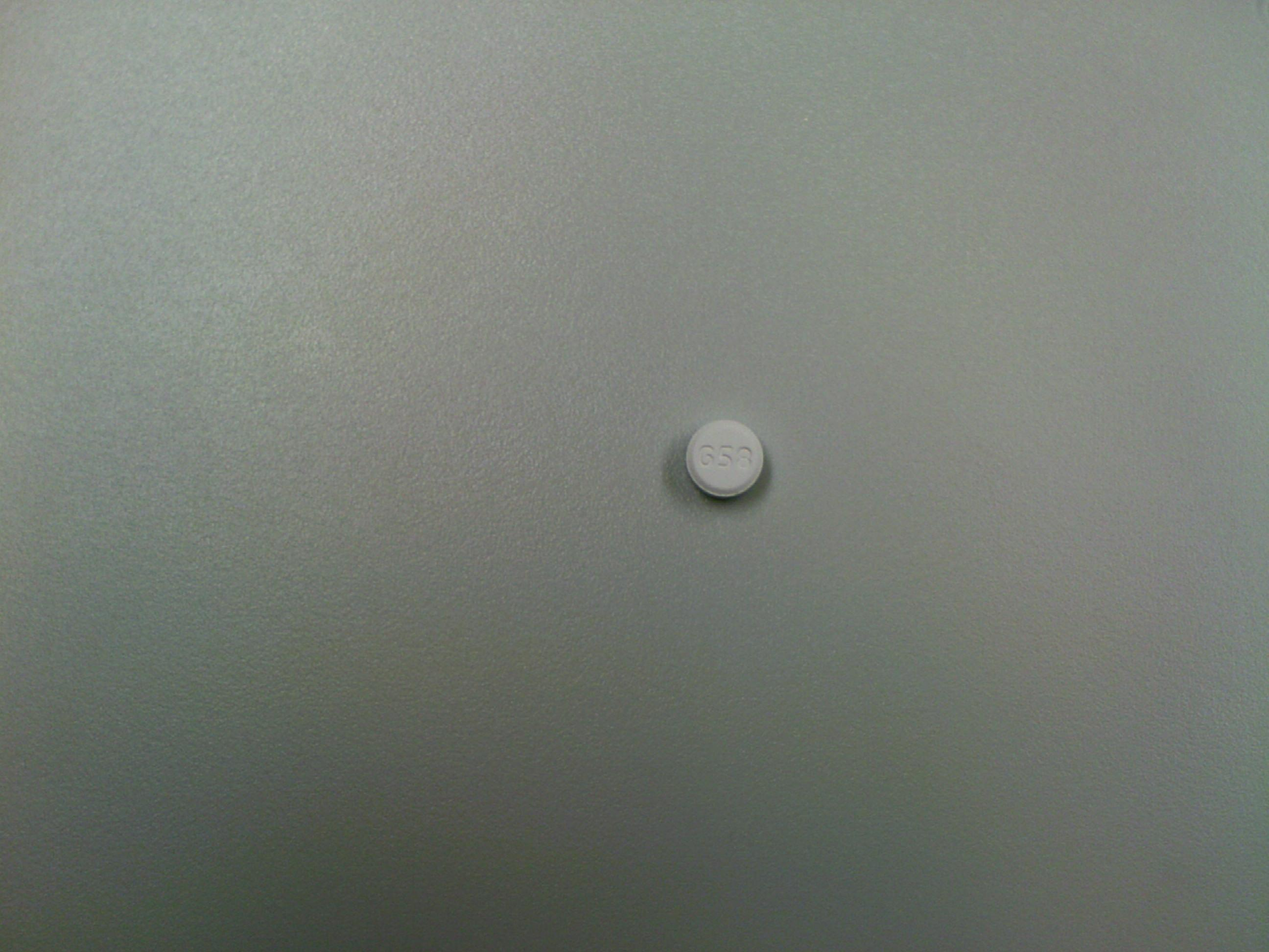Pill: (677, 411, 774, 506)
